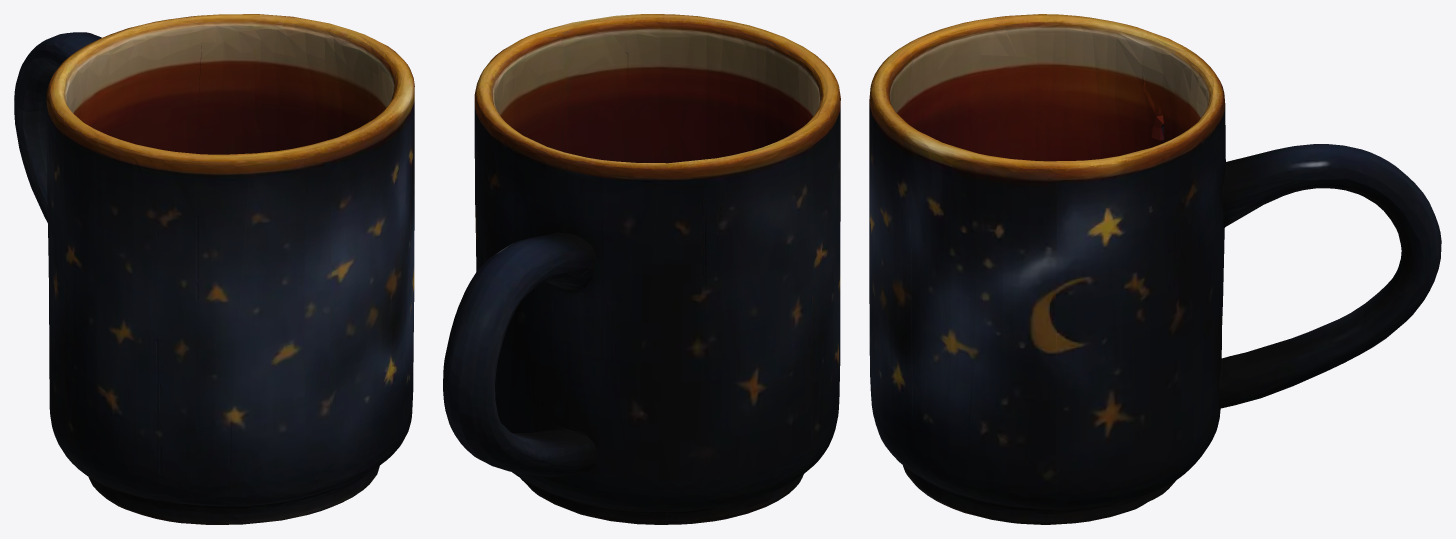
3 views of the same model, side by side, from view 1: azimuth 30°, elevation 25°; view 2: azimuth 150°, elevation 25°; view 3: azimuth 270°, elevation 25° (orthographic).
Visible parts, largest first — view 1: world; view 2: world; view 3: world.
Part boxes in pixels (x1,y1,x2,y2): world: [14, 14, 414, 524]; world: [443, 14, 840, 524]; world: [869, 14, 1441, 524].
Bounding box in the file's own units: 0.6417 × 0.7284 × 0.9979.
1 material, 1 textured.
